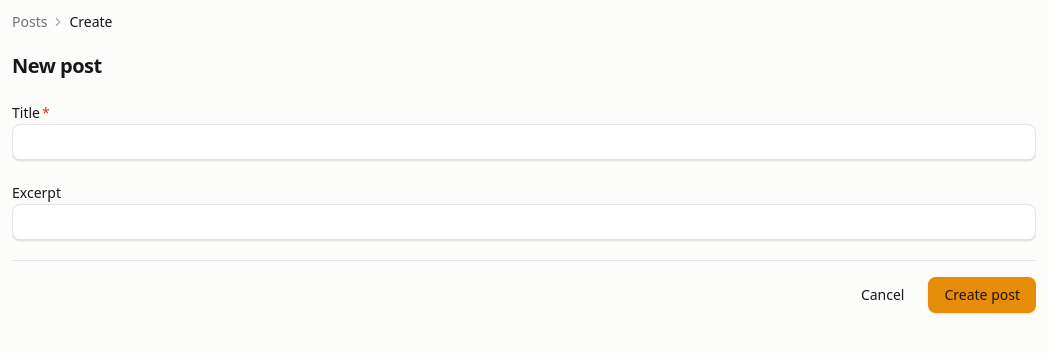
<CreatePage> › does not submit while the form is invalid
Step 1. Click the button "Create post" → (982, 295), box [928,277,1036,313]
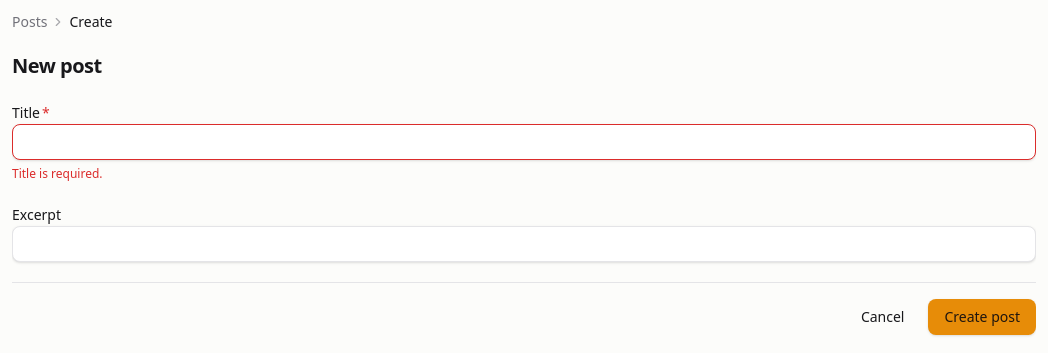
Expected: the text "Title is required." is shown, [12,165,102,182]
